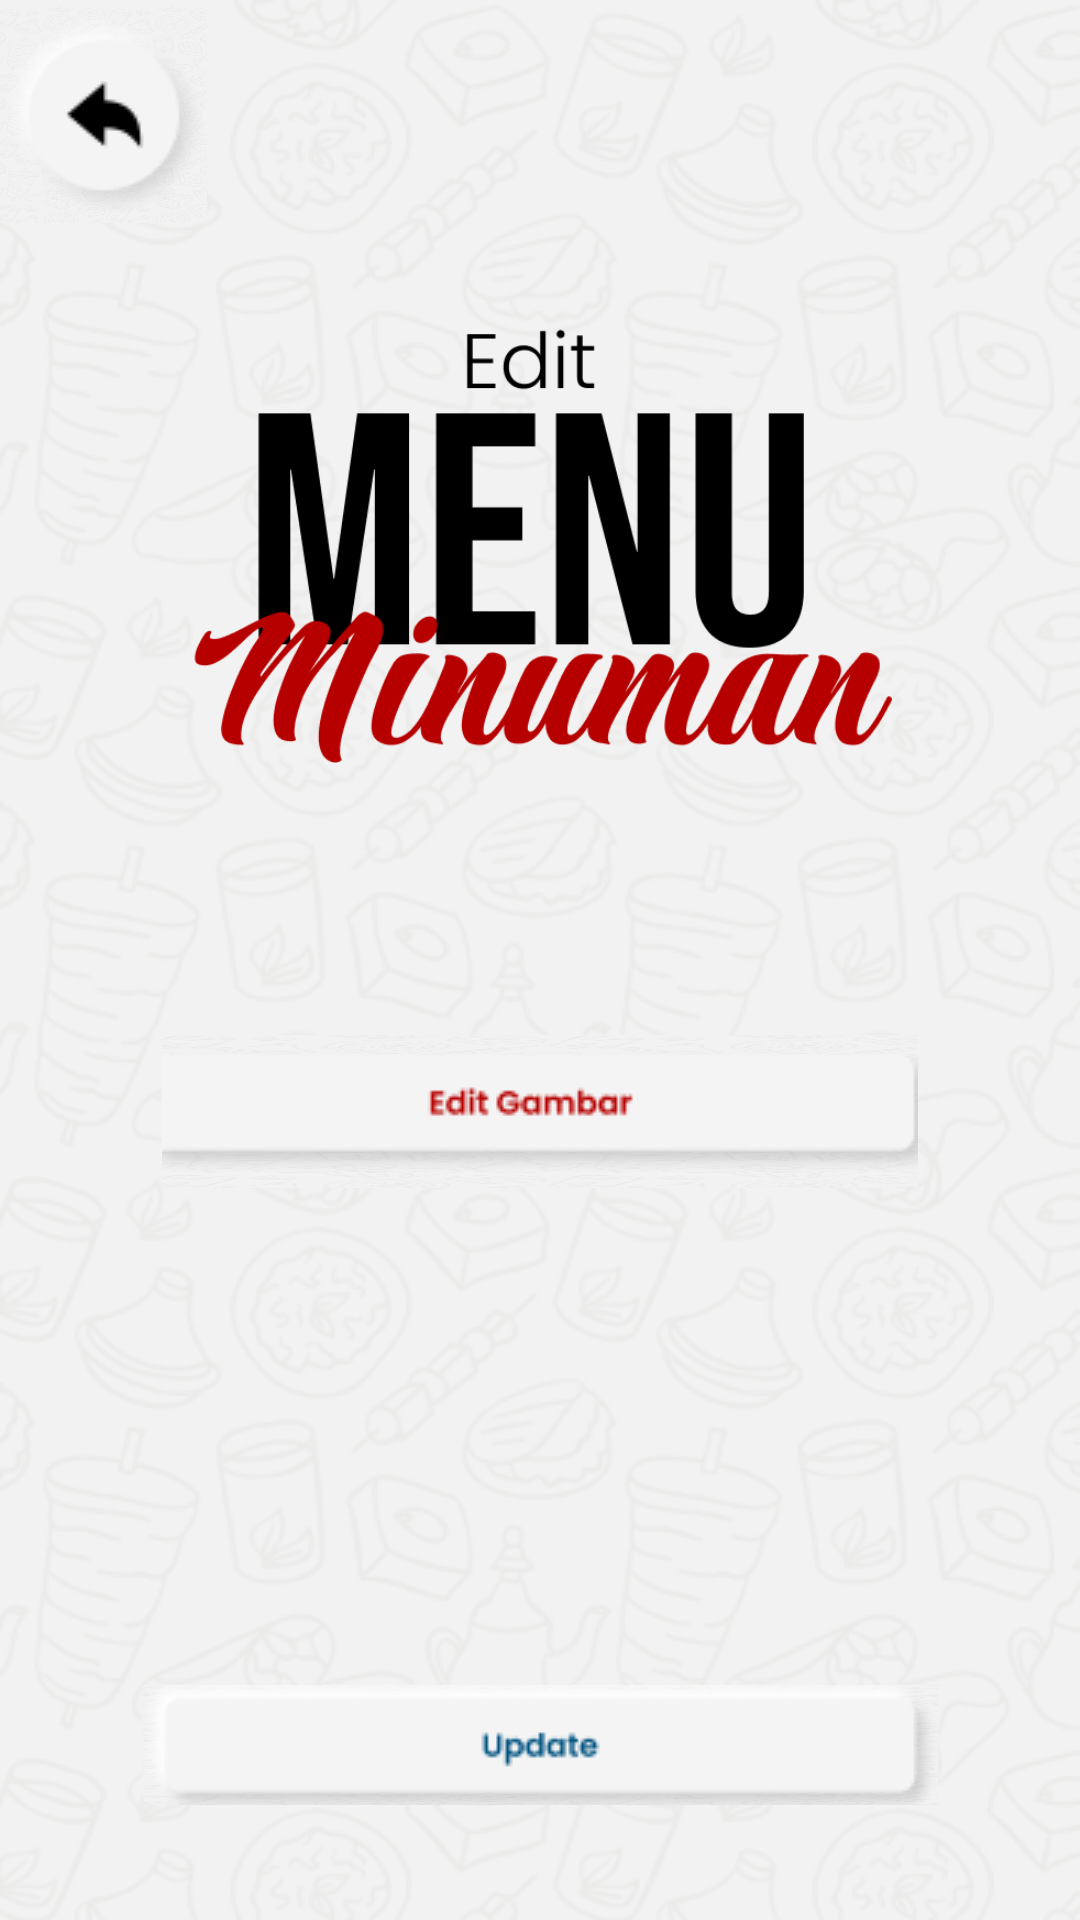

Icons on this 1080×1920 Android screen, each with the point to tap as [x,y]:
buttonkembali: [124,138]
